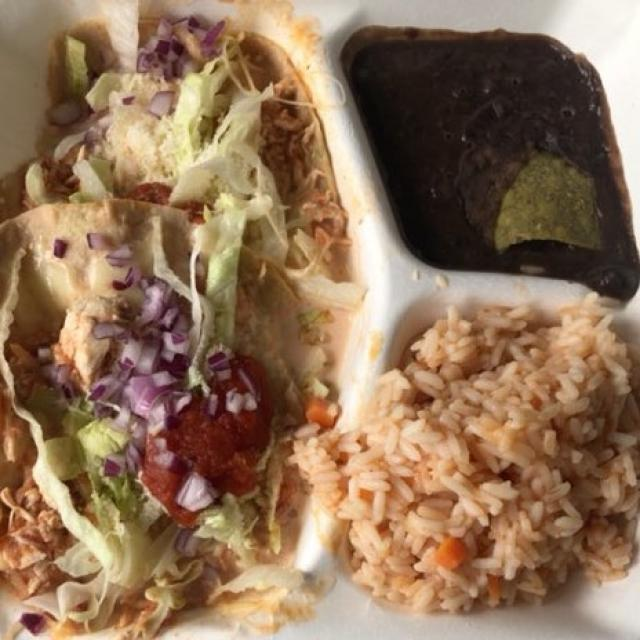mixed-vegetables: (7, 82, 305, 597)
rice: (329, 301, 634, 610)
tomato-sauce: (158, 366, 290, 525)
